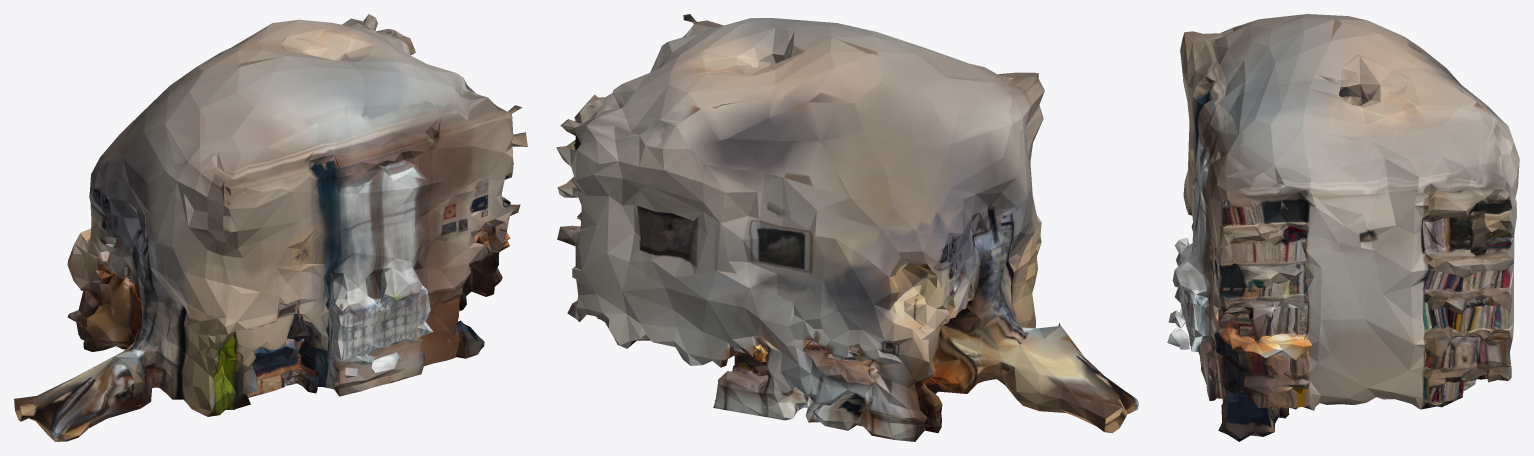
Rendered from room.glb.
3 renders of one model, left to right at view 1: azimuth 30°, elevation 25°; view 2: azimuth 150°, elevation 25°; view 3: azimuth 270°, elevation 25°, orthographic. The views are drawn at different scales.
Parts seen in each view (by area): view 1: roomtour5; view 2: roomtour5; view 3: roomtour5.
Part boxes in pixels (<box>): roomtour5: <box>14,14,527,441</box>; roomtour5: <box>556,14,1138,441</box>; roomtour5: <box>1167,14,1519,441</box>.
Bounding box in the file's own units: 31.58 × 20.15 × 19.4.
2 materials, 1 textured.
